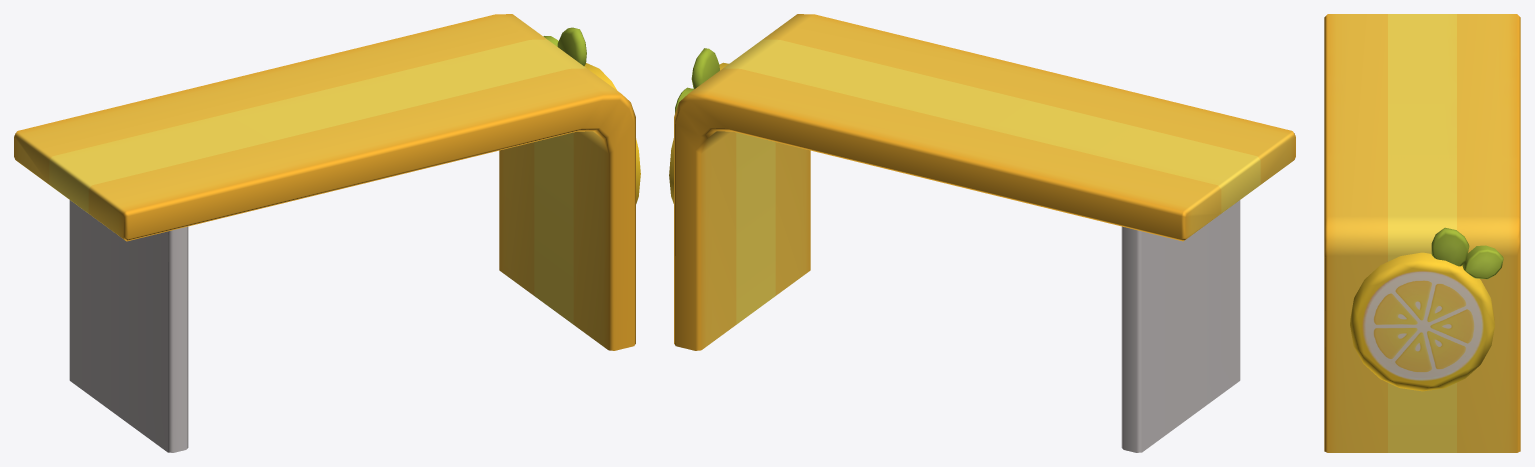
Rendered from Homestead_nm_2.fbx.
3 renders of one model, left to right at view 1: azimuth 30°, elevation 25°; view 2: azimuth 150°, elevation 25°; view 3: azimuth 270°, elevation 25°, orthographic. The views are drawn at different scales.
Visible parts, largest first — view 1: Homestead_nm_2; view 2: Homestead_nm_2; view 3: Homestead_nm_2.
Boxes of the visible parts, x1,y1,x2,y2 form: Homestead_nm_2: (14, 14, 640, 452); Homestead_nm_2: (669, 14, 1295, 452); Homestead_nm_2: (1324, 14, 1520, 452).
Size of the model in its own units: 234 by 110 by 86.01.
